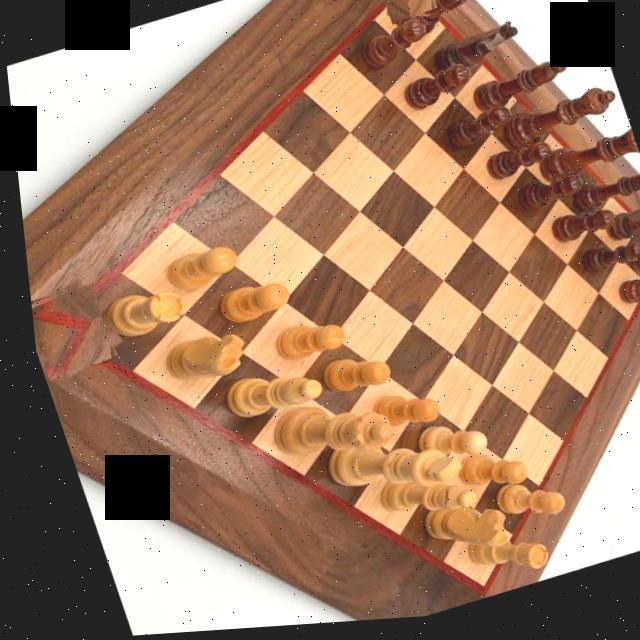chess-table-corners: (23, 277, 115, 380), (372, 0, 440, 31), (620, 227, 640, 294)
